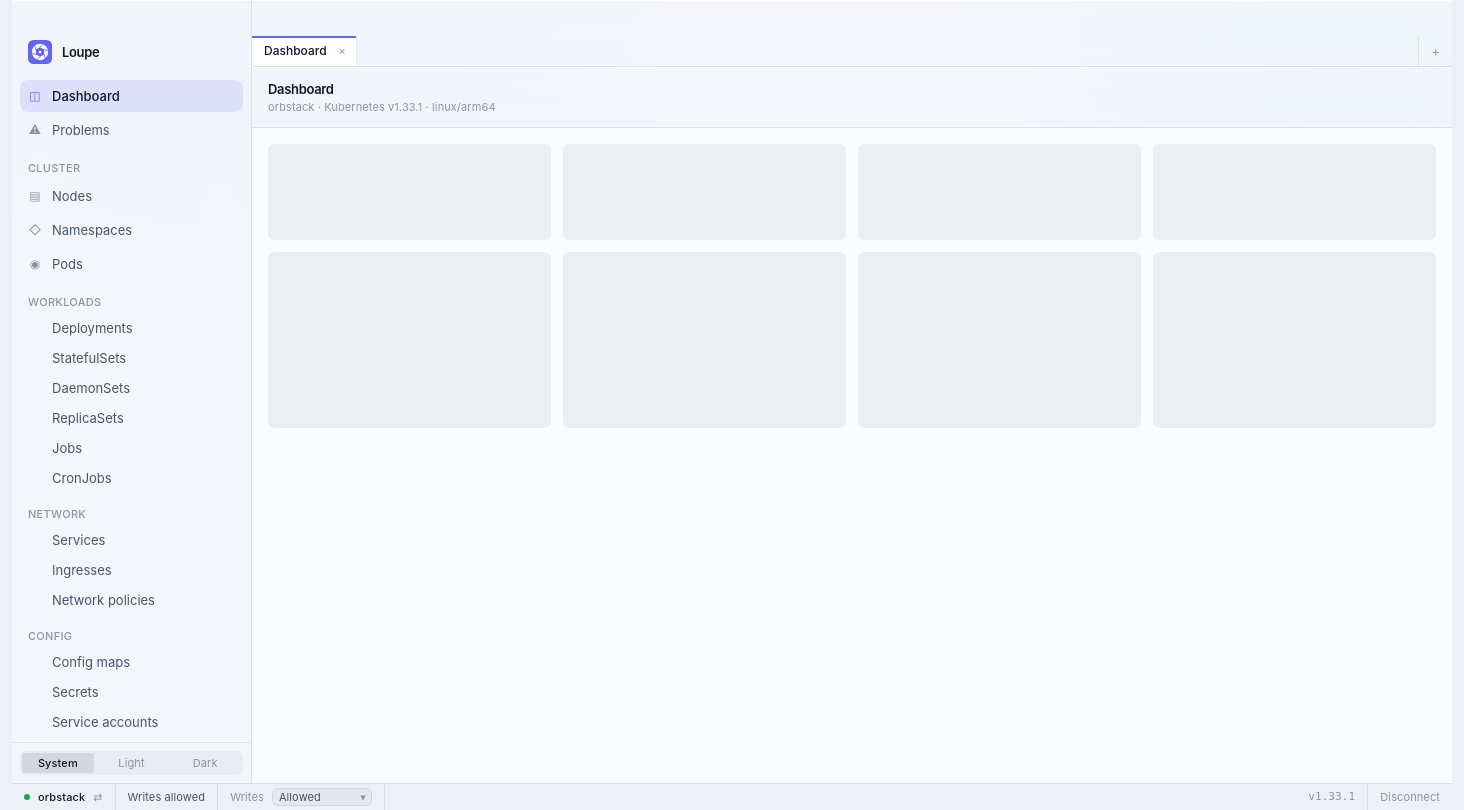
Test case: App workspace › goes back to the listing and forward to the object again
This screenshot has width=1464, height=810.
Expected: the heading "Dashboard" is shown, [268,81,334,97]
Click the button "◉ Pods". click: (132, 264)
box: [20,248,243,280]
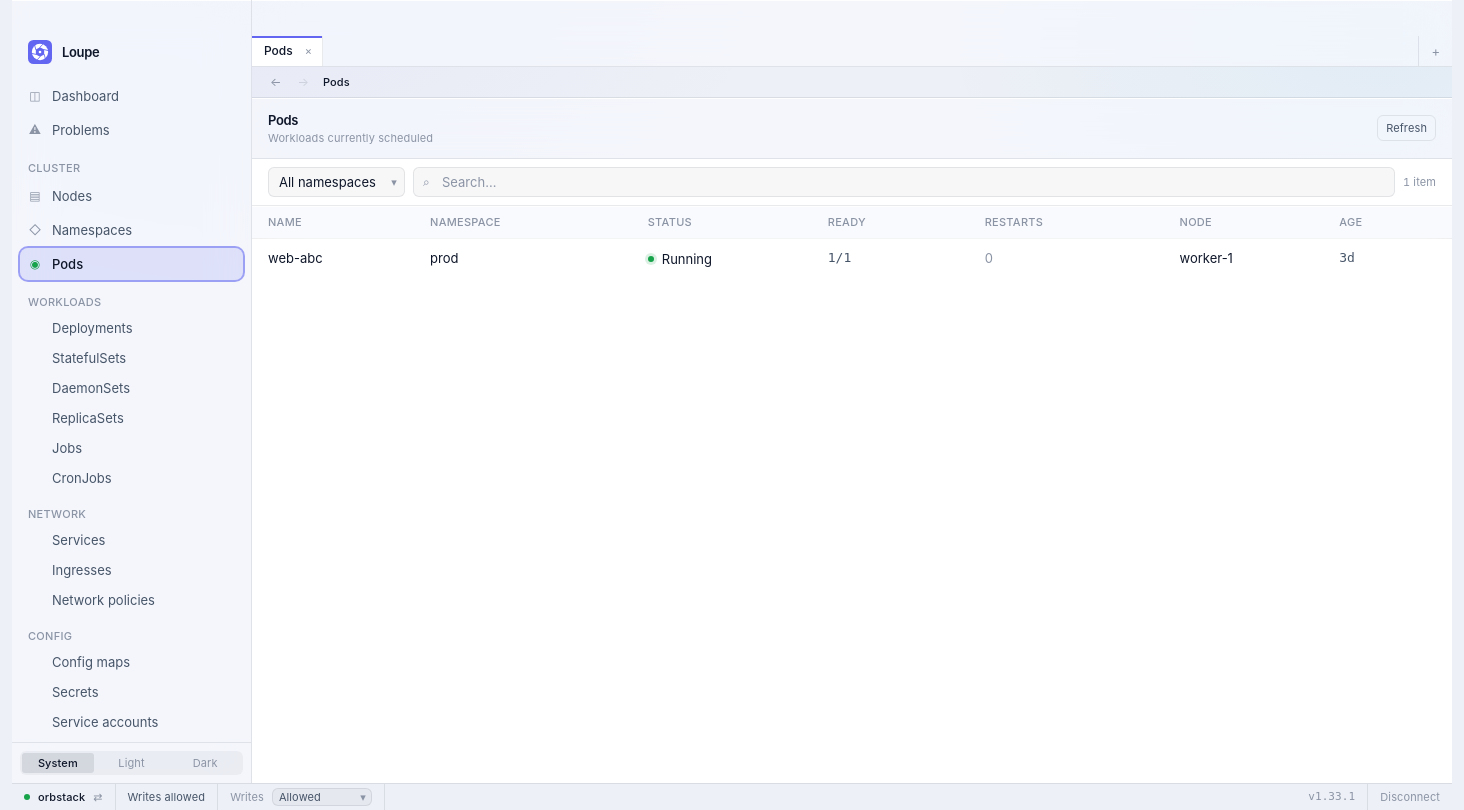
Click the text "web-abc". click: (295, 258)
box: [252,238,414,277]
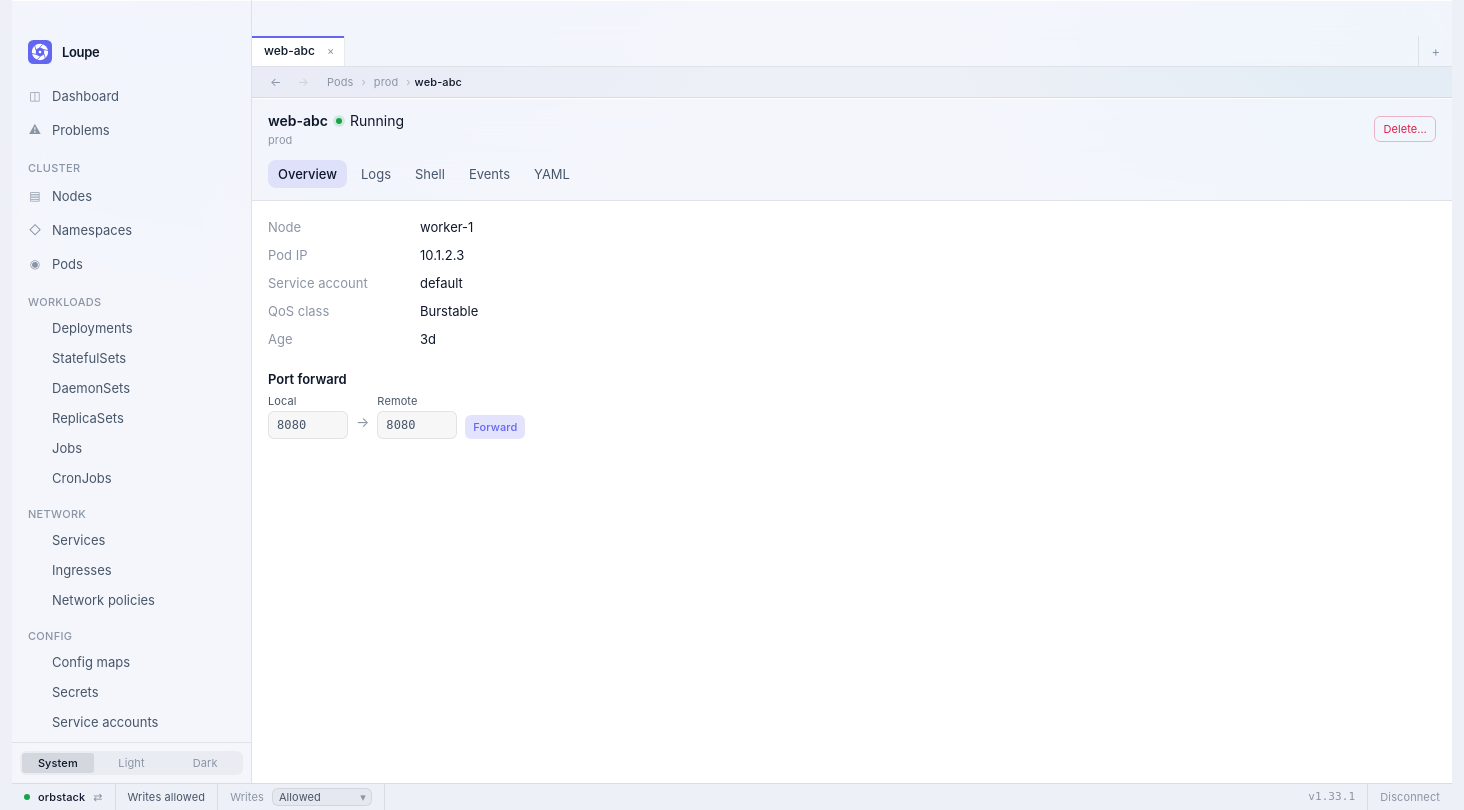
Click the button named "Back". click: (276, 82)
box: [264,73,288,91]
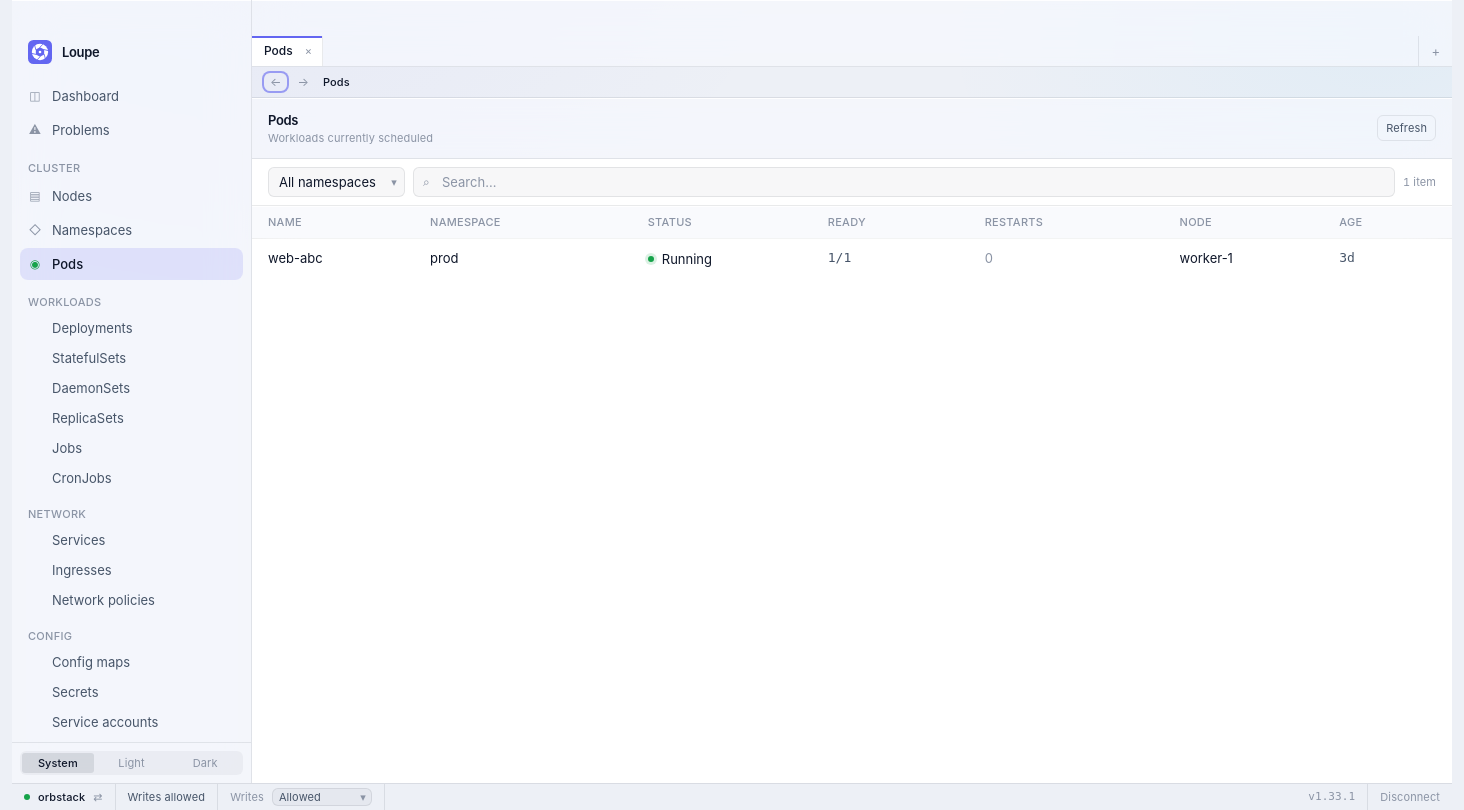
Now the heading "Pods" is shown, box [268,112,298,128]
Click the button named "Forward". click: (303, 82)
box: [292,73,315,91]
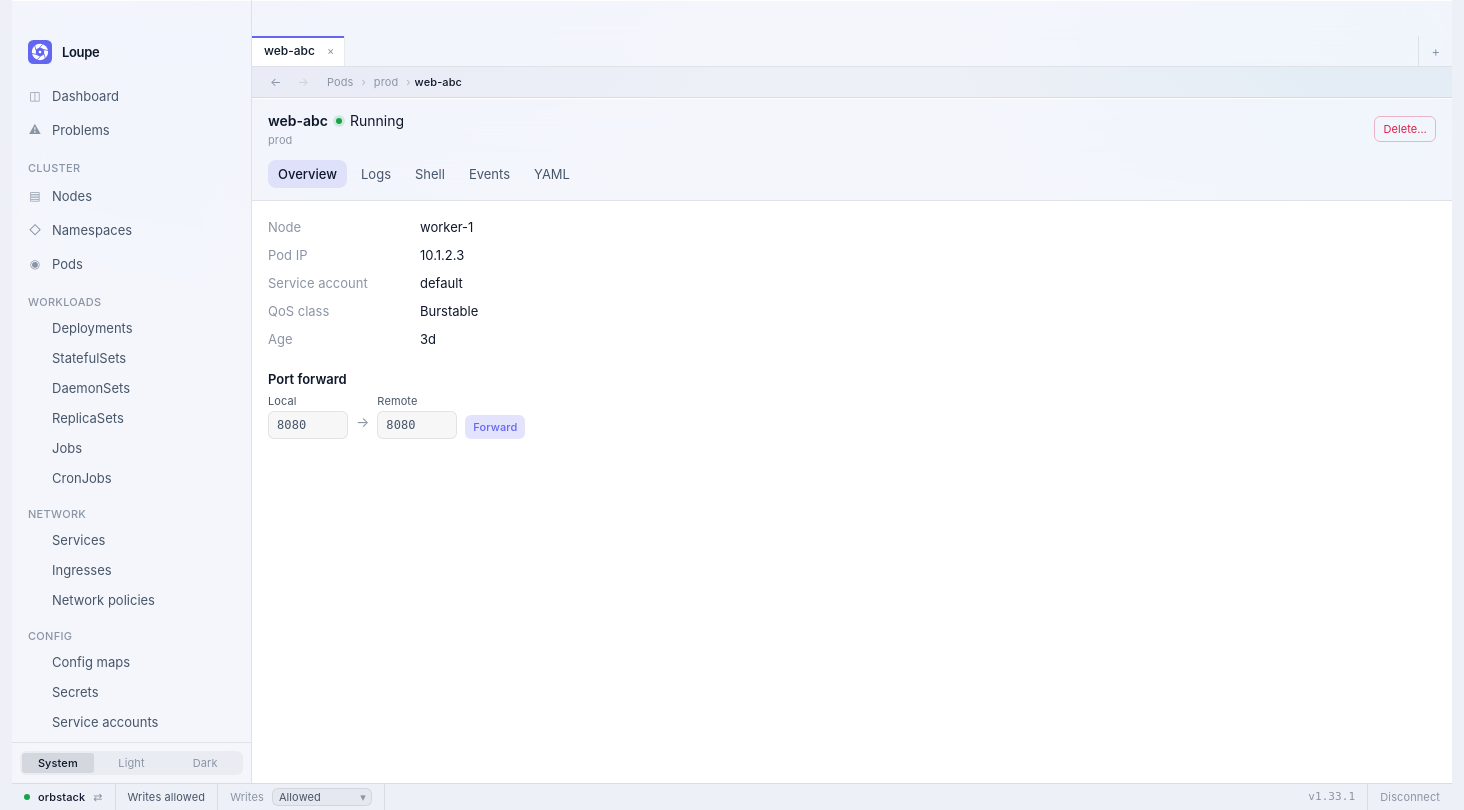
Now the heading "web-abc" is shown, box [268,110,328,132]
